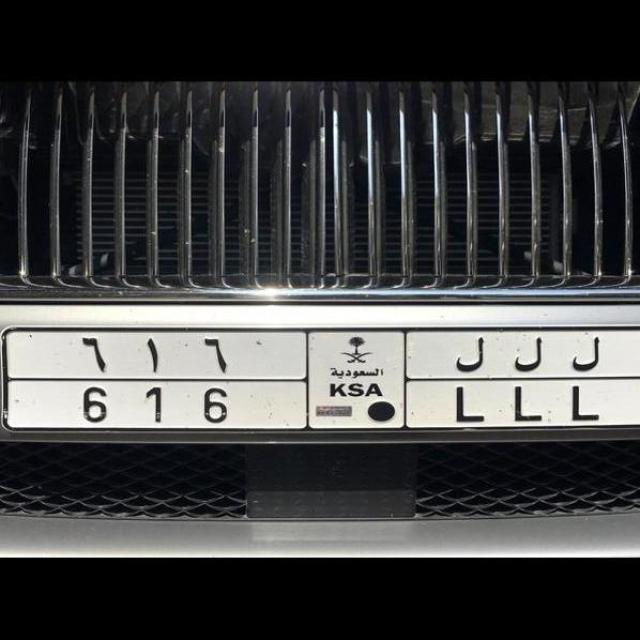license_plate: (51, 331, 614, 430)
